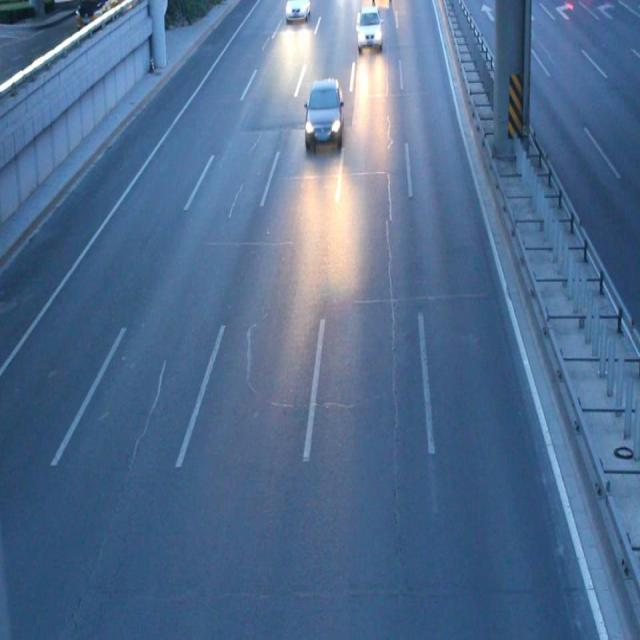car: (305, 80, 344, 148), (357, 9, 382, 53), (285, 1, 310, 22)
